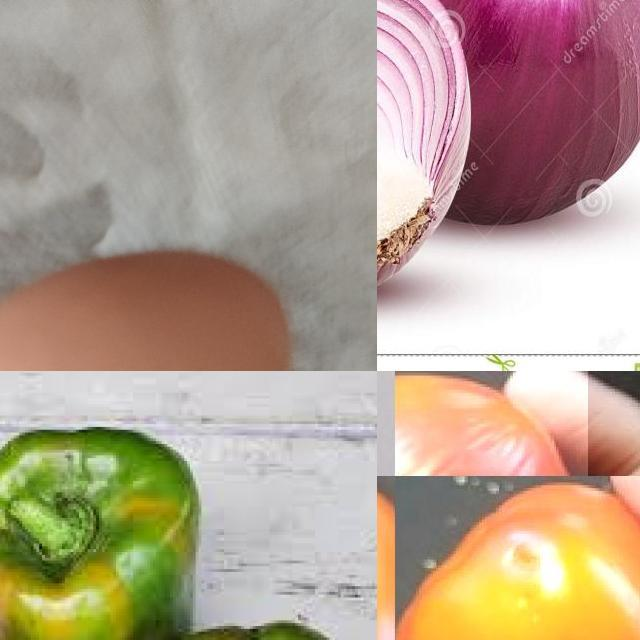bell_pepper: (1, 415, 202, 640)
egg: (1, 239, 302, 372)
onion: (378, 1, 640, 230), (378, 1, 478, 308)
tomato: (396, 477, 640, 640)
